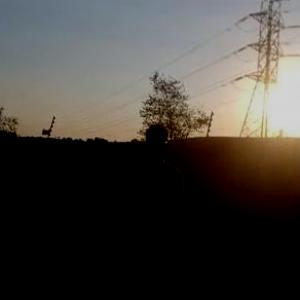follow: (115, 119, 188, 299)
